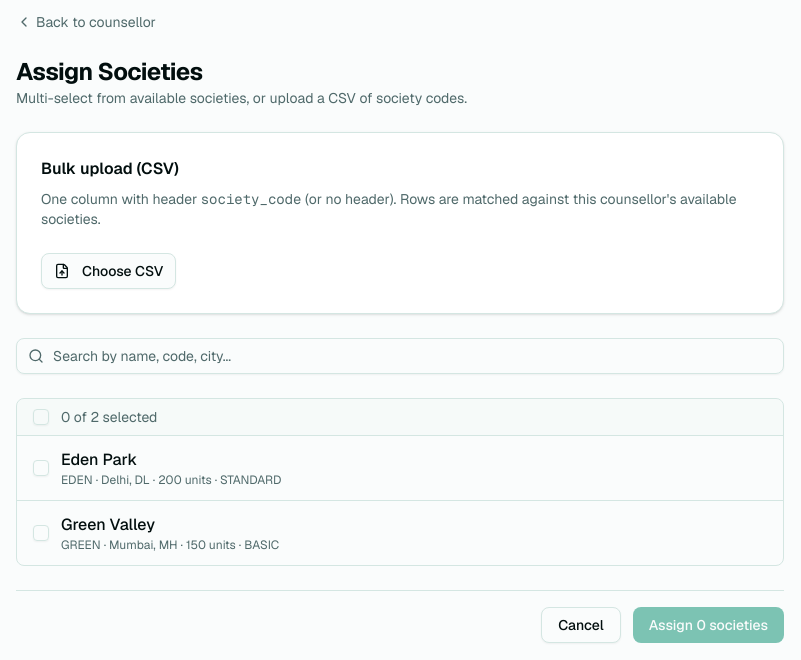
Test case: AssignSocietiesPage › toggles all rows via select-all checkbox
Expected: the text "Eden Park" is shown, [61, 449, 137, 470]
Click the checkbox named "Select all" at point(41, 417), box [33, 409, 49, 425]
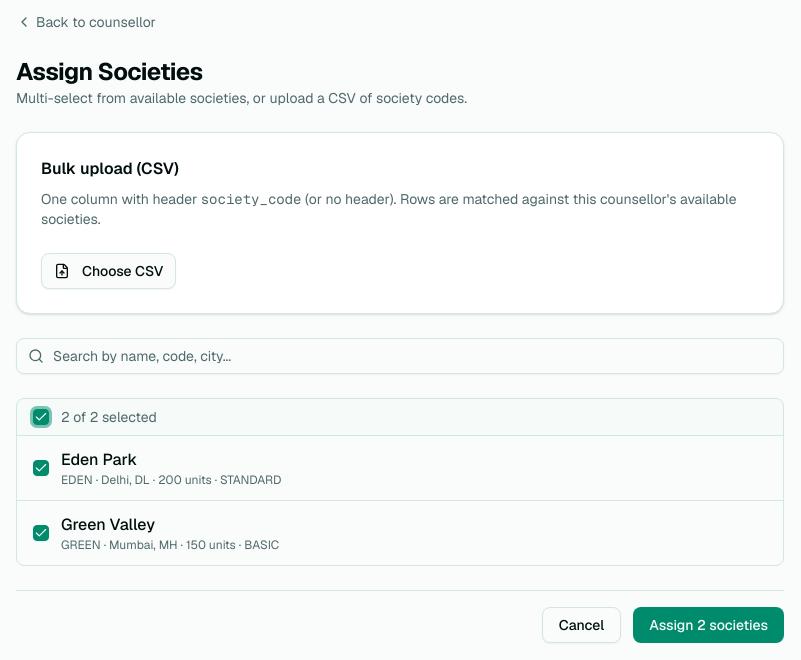
Now the text "2 of 2 selected" is shown, box [61, 407, 157, 427]
Click the checkbox named "Select all" at point(41, 417), box [33, 409, 49, 425]
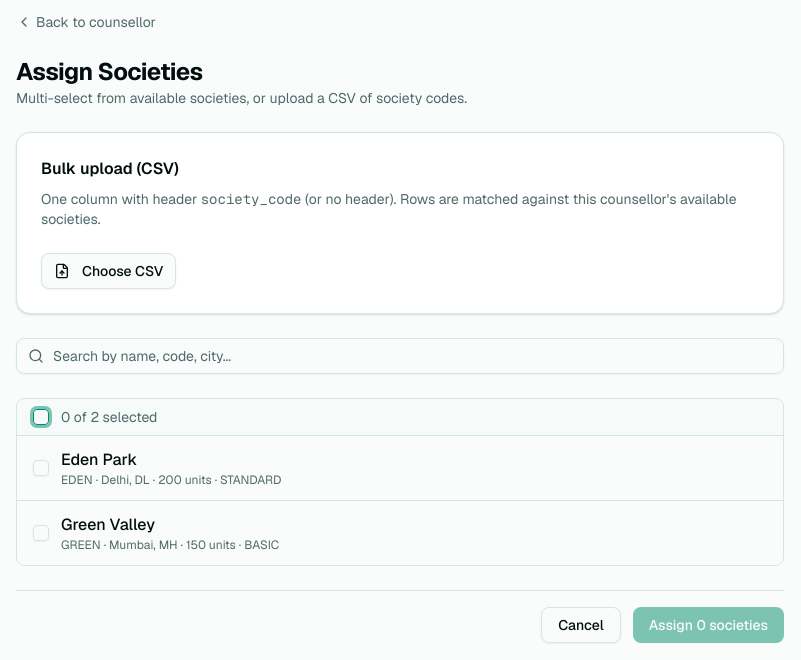
Now the text "0 of 2 selected" is shown, box [61, 407, 157, 427]
